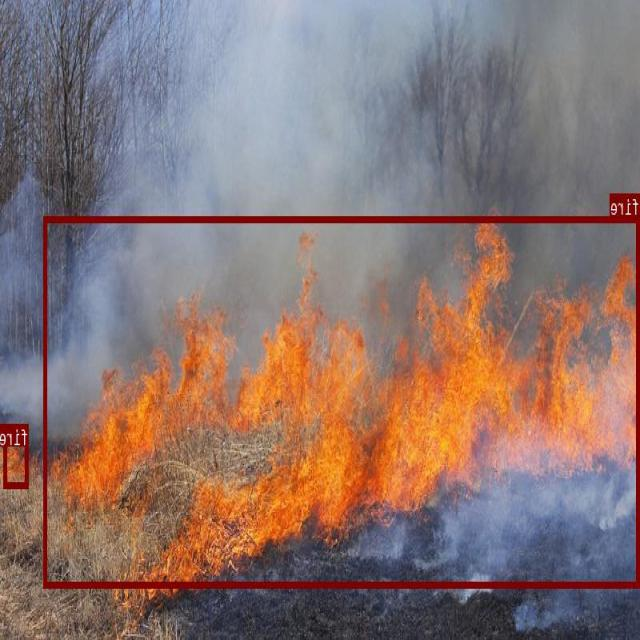fire: (44, 216, 640, 586), (4, 423, 29, 488)
